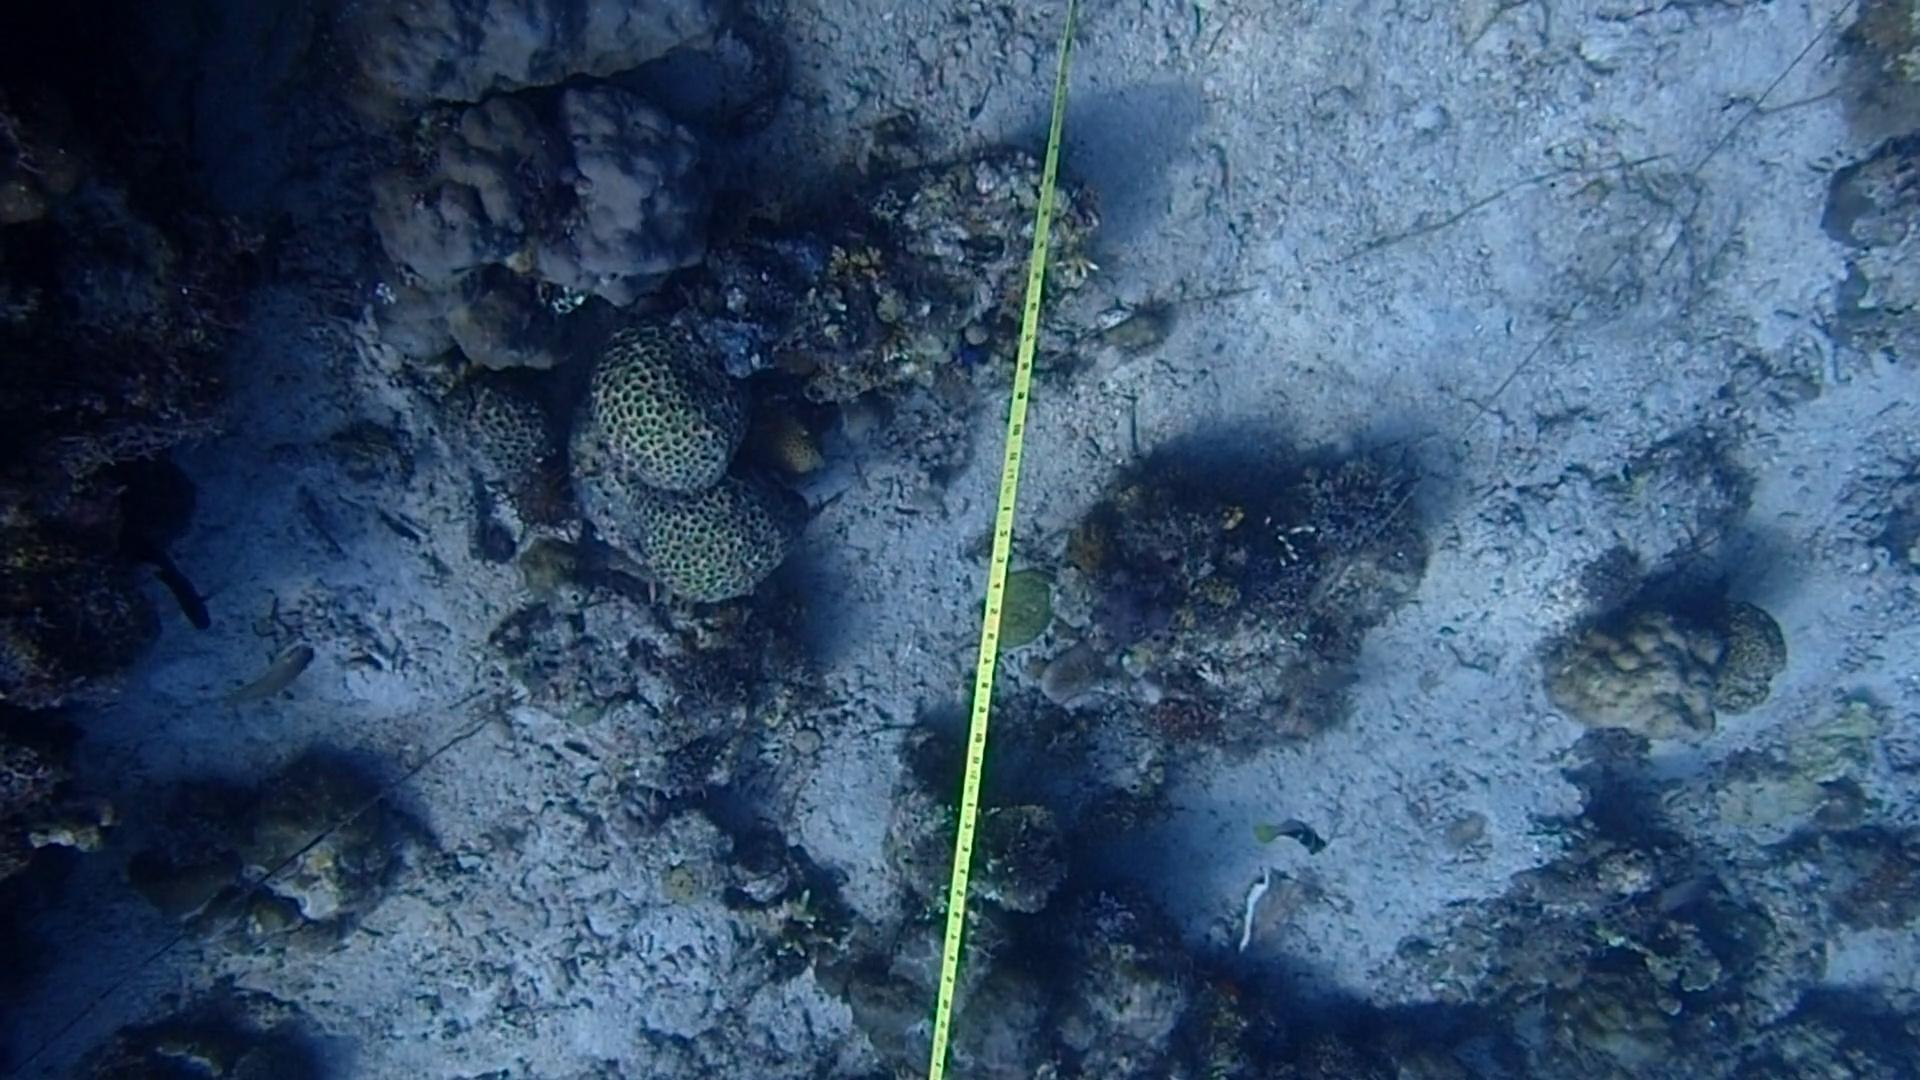Striped Fish: (1253, 800, 1335, 866)
